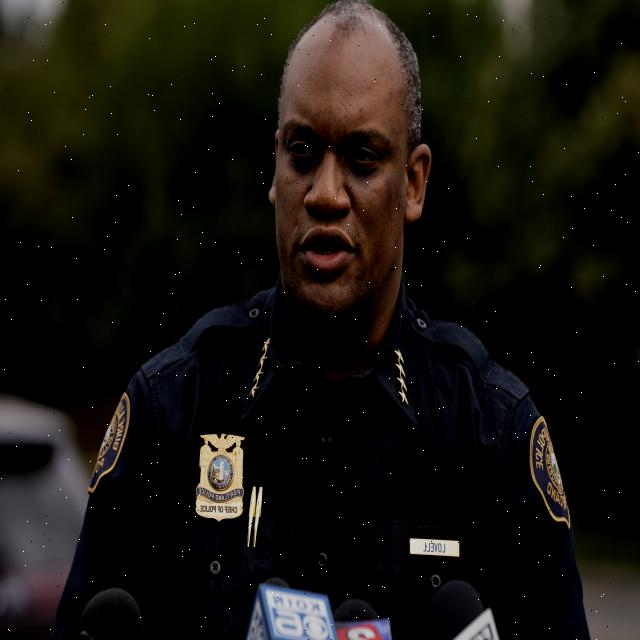police: (50, 0, 596, 640)
